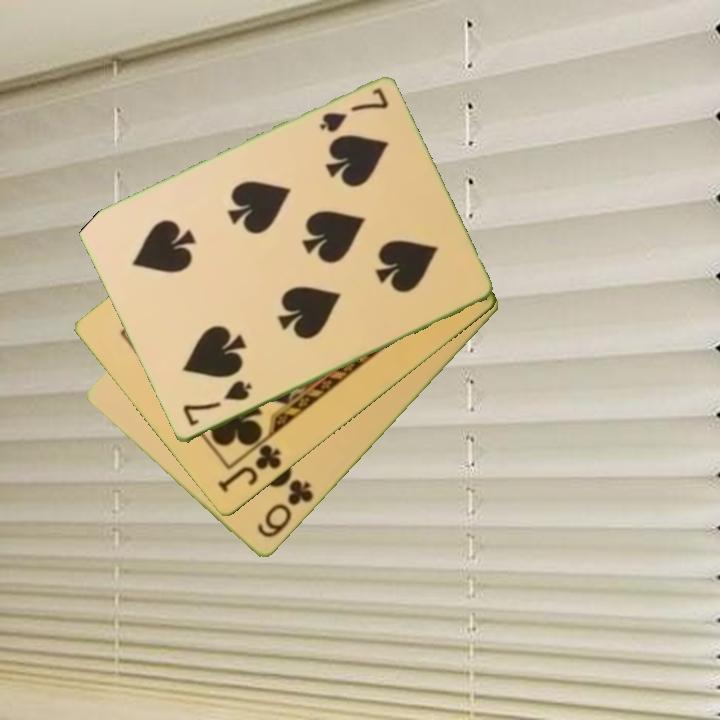6c: (253, 476, 316, 541)
7s: (179, 377, 255, 430), (316, 84, 392, 136)
Jc: (214, 441, 285, 497)
